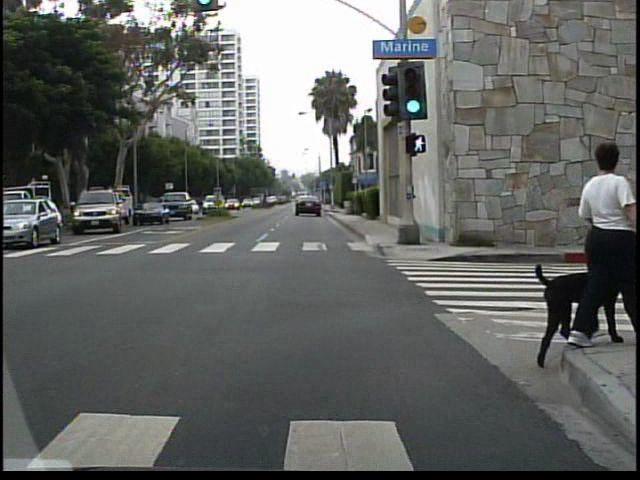person: (569, 140, 629, 346)
